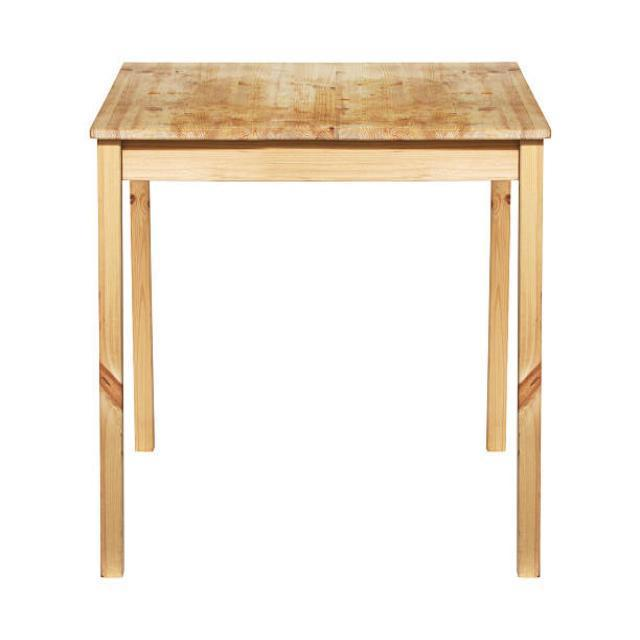table: (90, 59, 550, 580)
